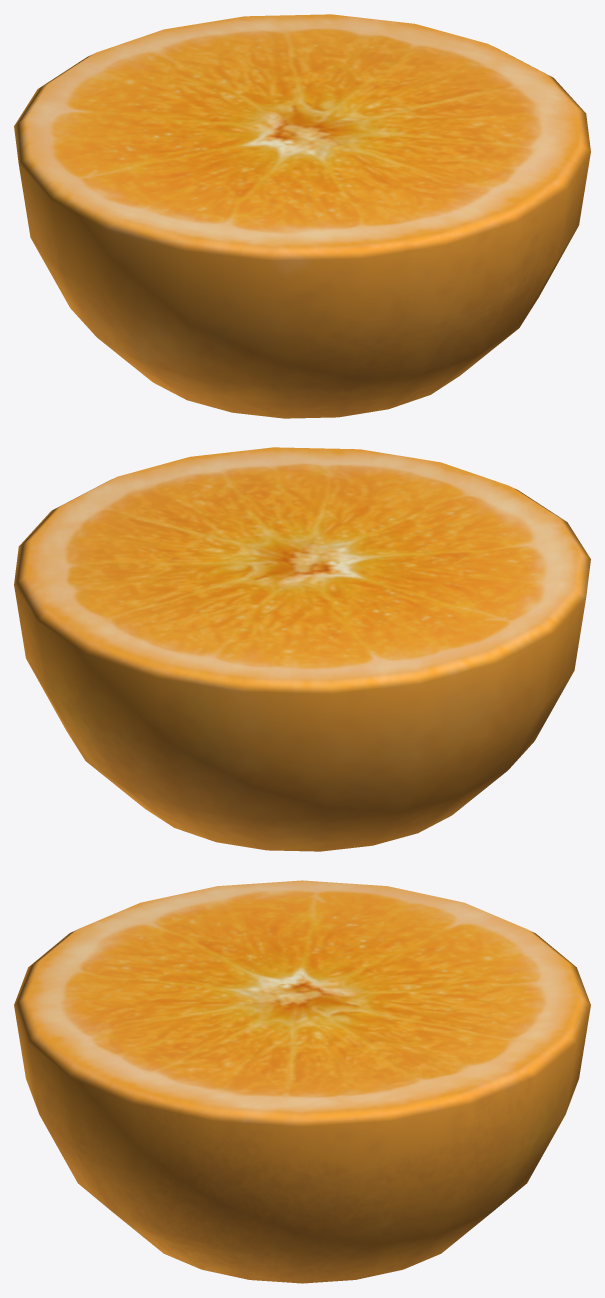
The model's file is Orange.fbx.
3 renders of one model, top to bottom at view 1: azimuth 30°, elevation 25°; view 2: azimuth 150°, elevation 25°; view 3: azimuth 270°, elevation 25°, orthographic.
Parts seen in each view (by area): view 1: Orange; view 2: Orange; view 3: Orange.
Boxes of the visible parts, <box> form: Orange: <box>14,14,590,418</box>; Orange: <box>14,447,590,851</box>; Orange: <box>14,880,590,1283</box>.
Bounding box in the file's own units: 1.98 × 0.9632 × 1.98.
